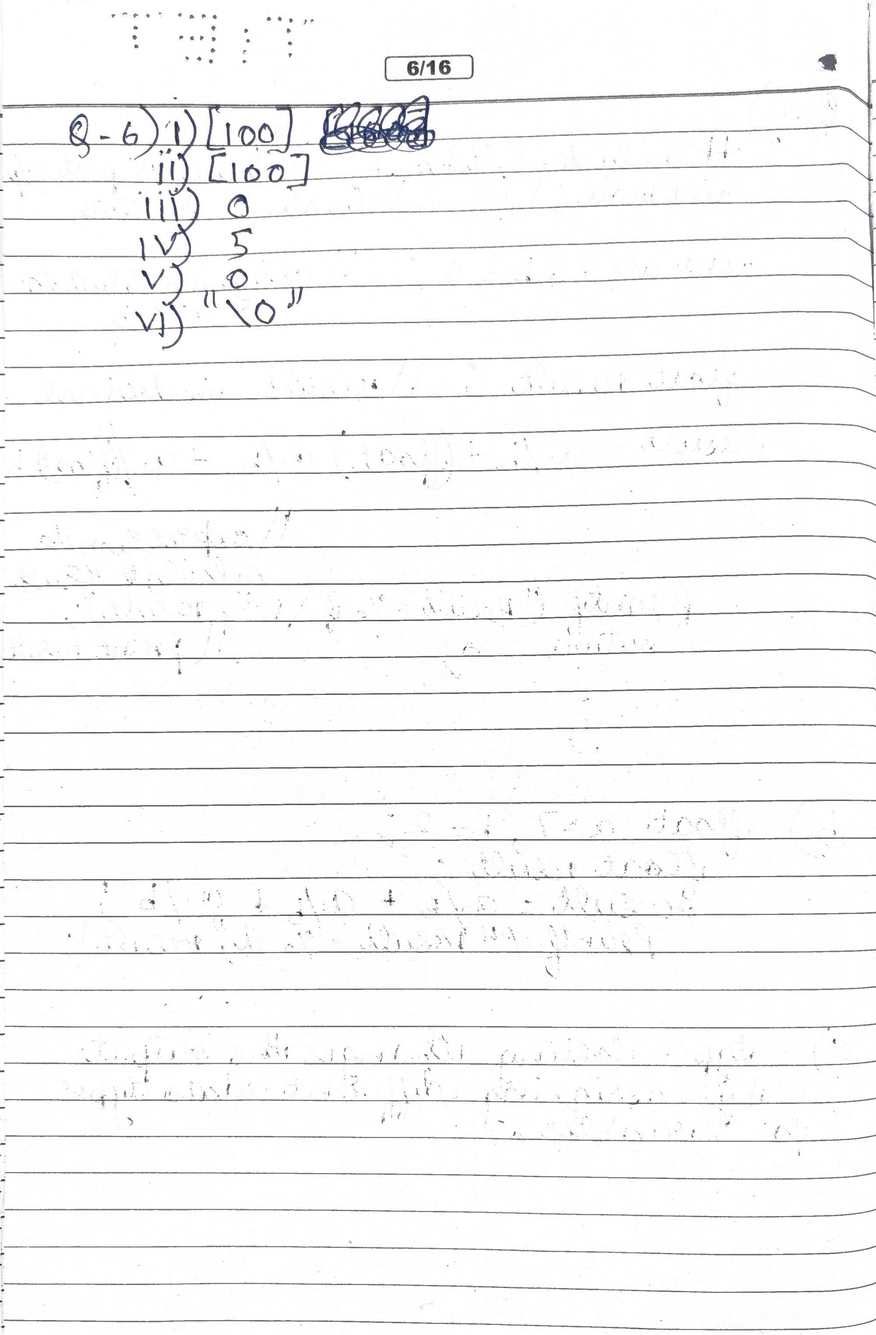cuttings: (320, 94, 439, 157)
